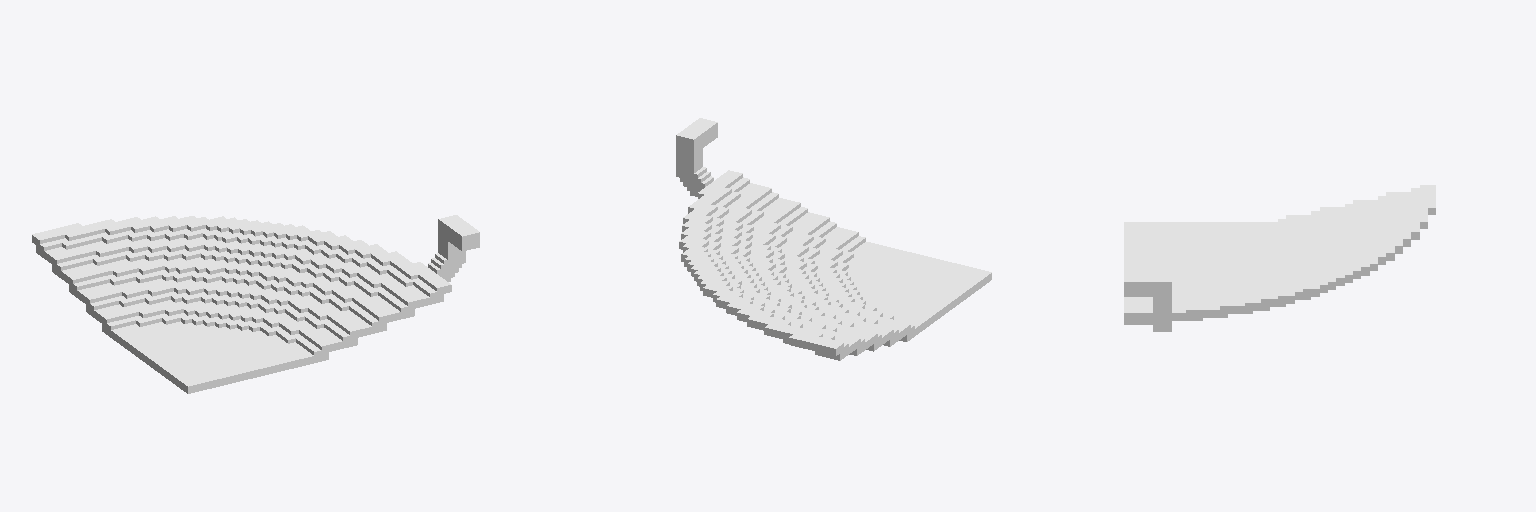
File: Ledianky-0.obj
The picture shows the model from 3 angles: view 1: azimuth 30°, elevation 25°; view 2: azimuth 150°, elevation 25°; view 3: azimuth 270°, elevation 25°; orthographic projection.
Visible parts, largest first — view 1: object 1; view 2: object 1; view 3: object 1.
Boxes of the visible parts, x1=… form: object 1: x1=32, y1=215, x2=479, y2=393; object 1: x1=676, y1=118, x2=991, y2=360; object 1: x1=1124, y1=185, x2=1435, y2=331.
Size of the model in its own units: 16.2 by 4.8 by 15.